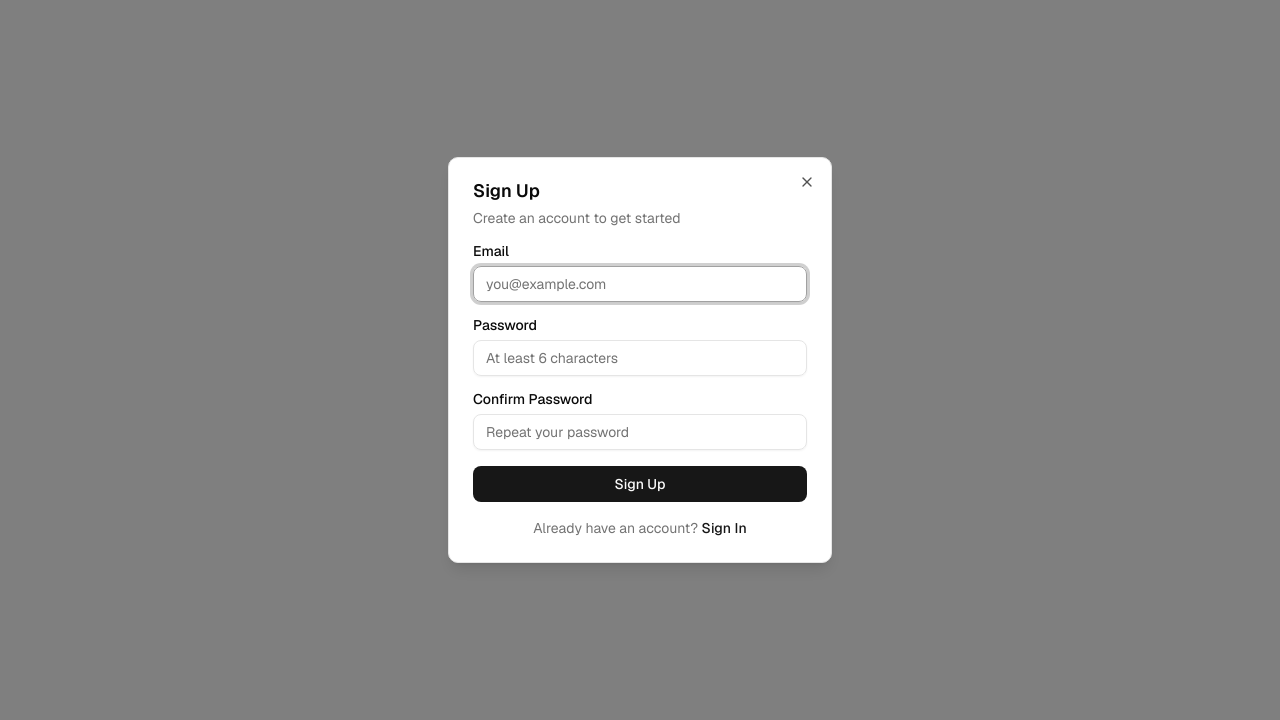
AuthDialog › shows error when register passwords do not match
In the field labelled "Email": (640, 284) [473,266,807,302], type "test@example.com"
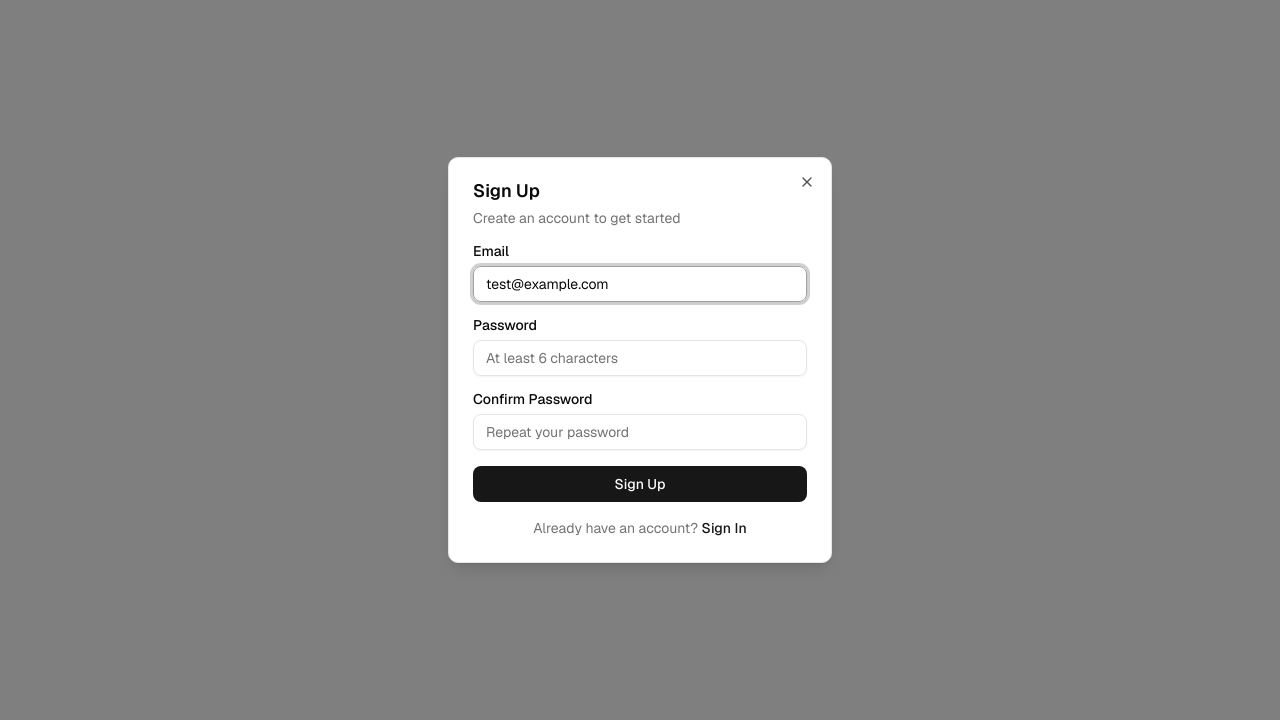
In the password field labelled "Password": (640, 358) [473,340,807,376], type "password1"
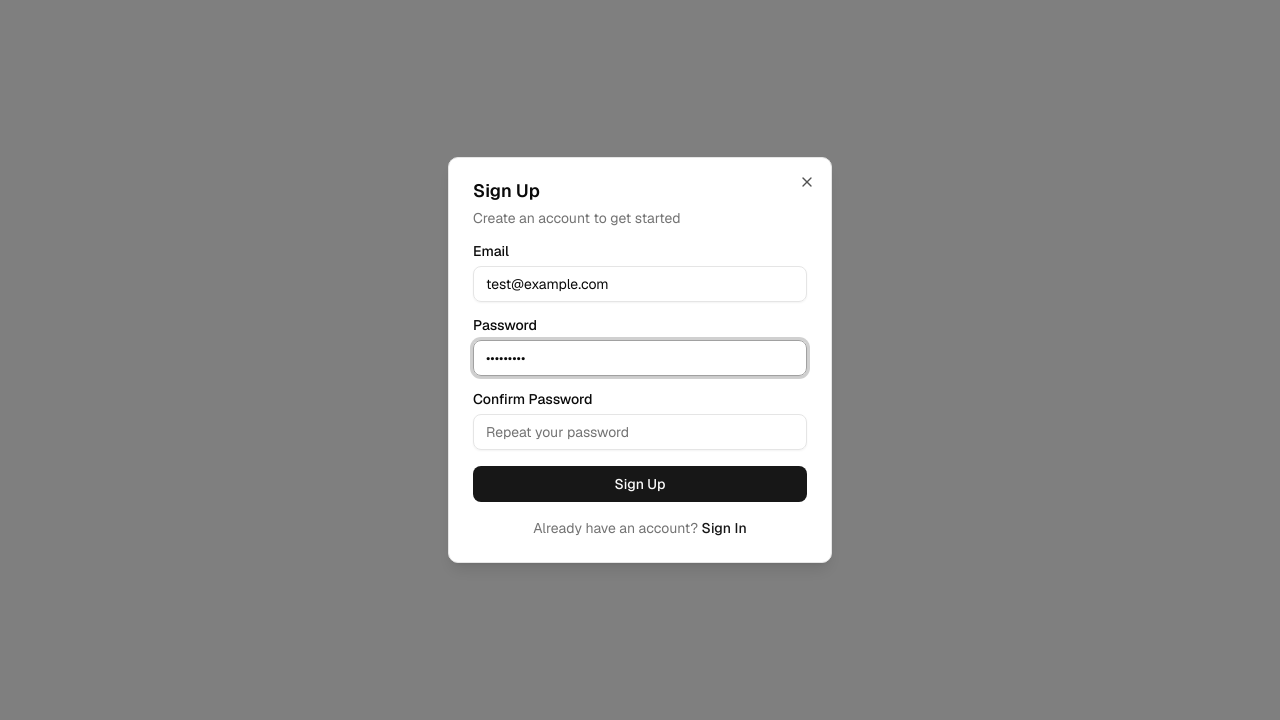
In the password field labelled "Confirm Password": (640, 432) [473,414,807,450], type "password2"
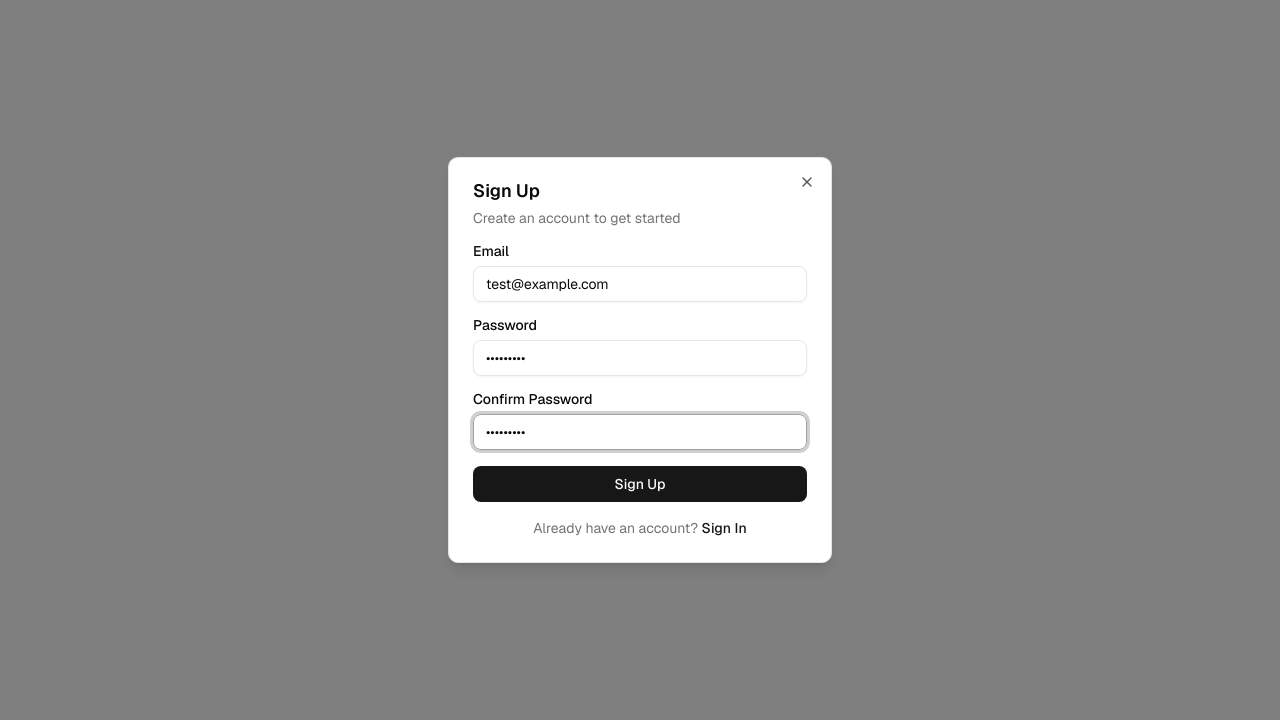
Click the button "Sign Up": (640, 484) [473,466,807,502]
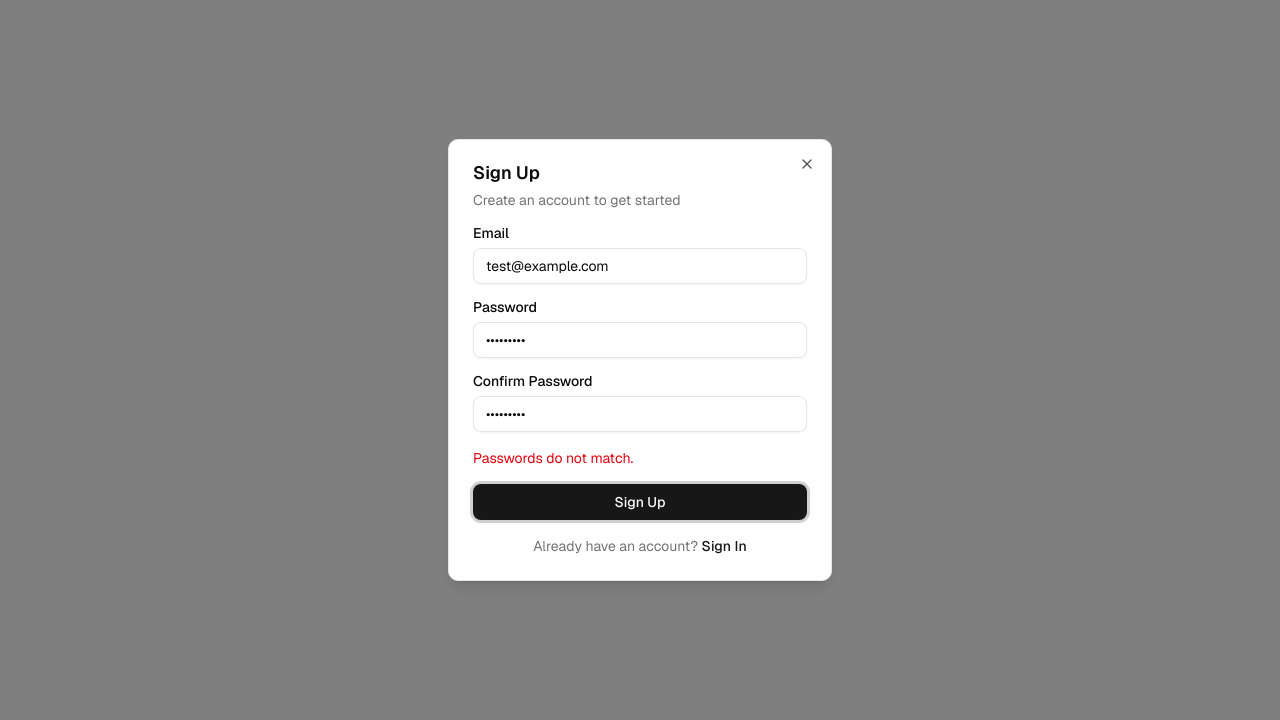
Result: the message reads "Passwords do not match." at [473,449,633,467]
